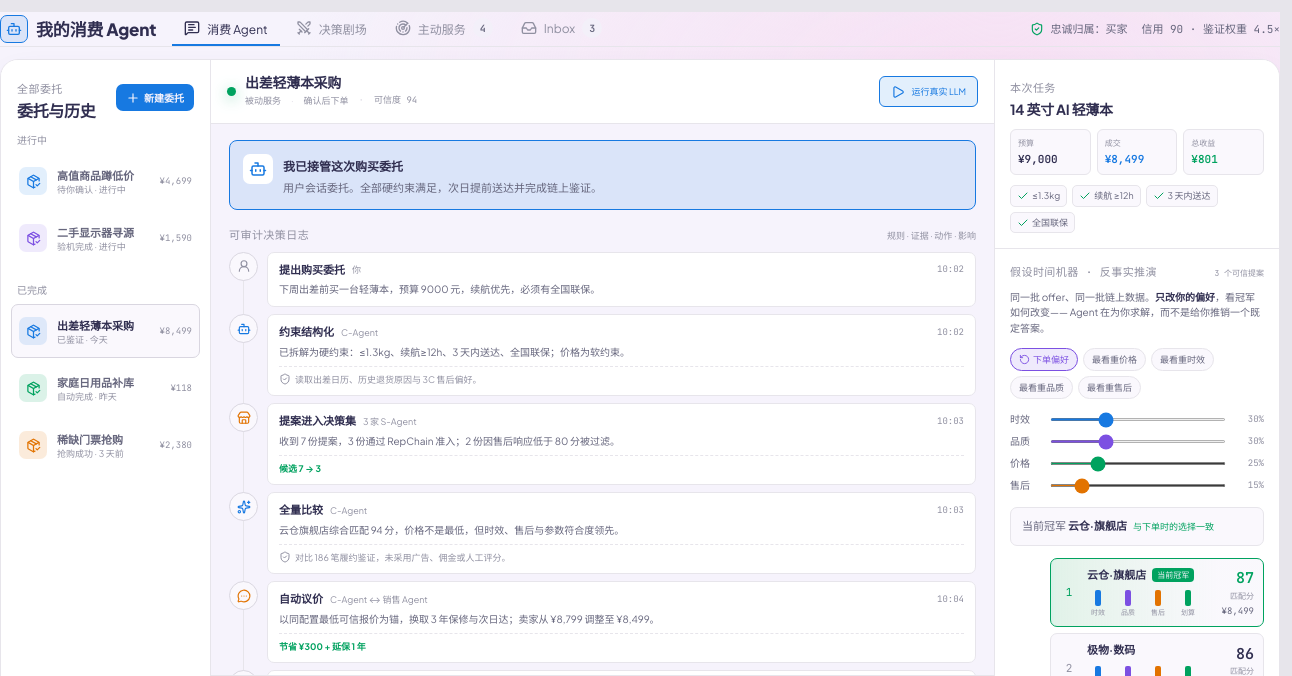
Test case: 买家端演示工作台 › 主动服务页覆盖四类场景
The image size is (1292, 676).
Click the button "主动服务 4" at (444, 29), box [383,12,505,46]
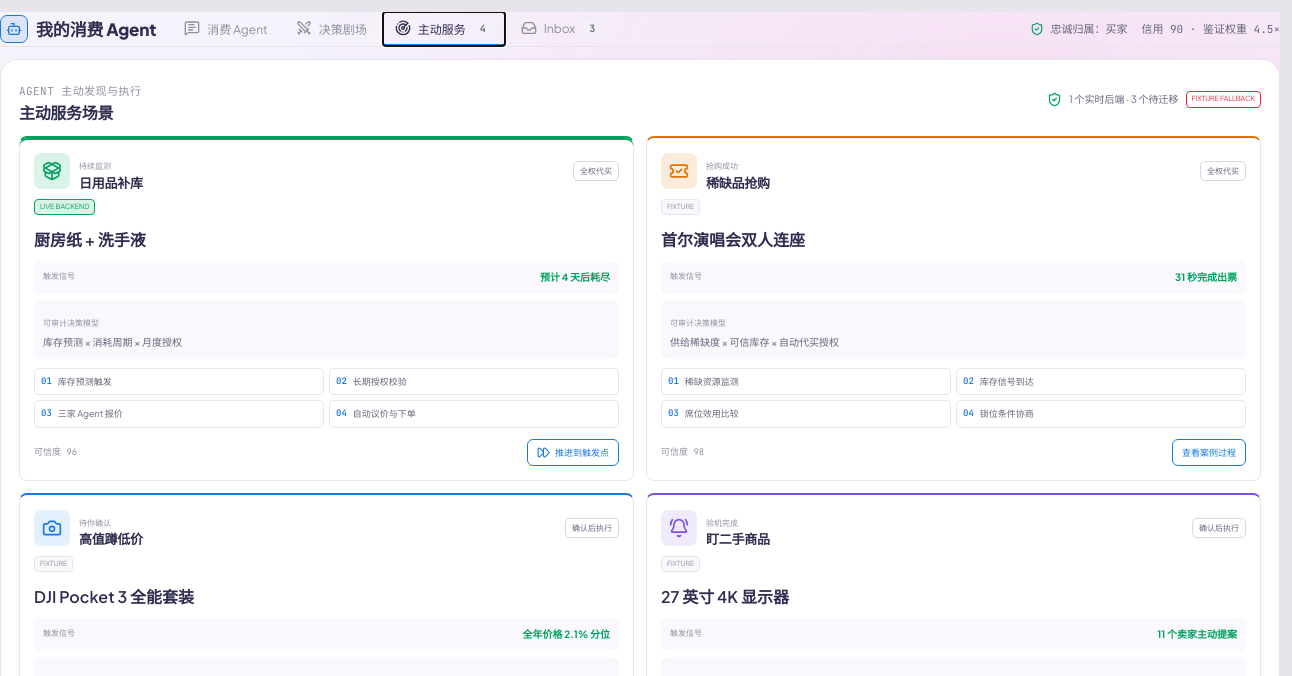
Check: the heading "稀缺品抢购" is shown, box [706,176,770,190]
Check: the heading "高值蹲低价" is shown, box [79,532,143,547]
Check: the heading "盯二手商品" is shown, box [706,532,770,547]
